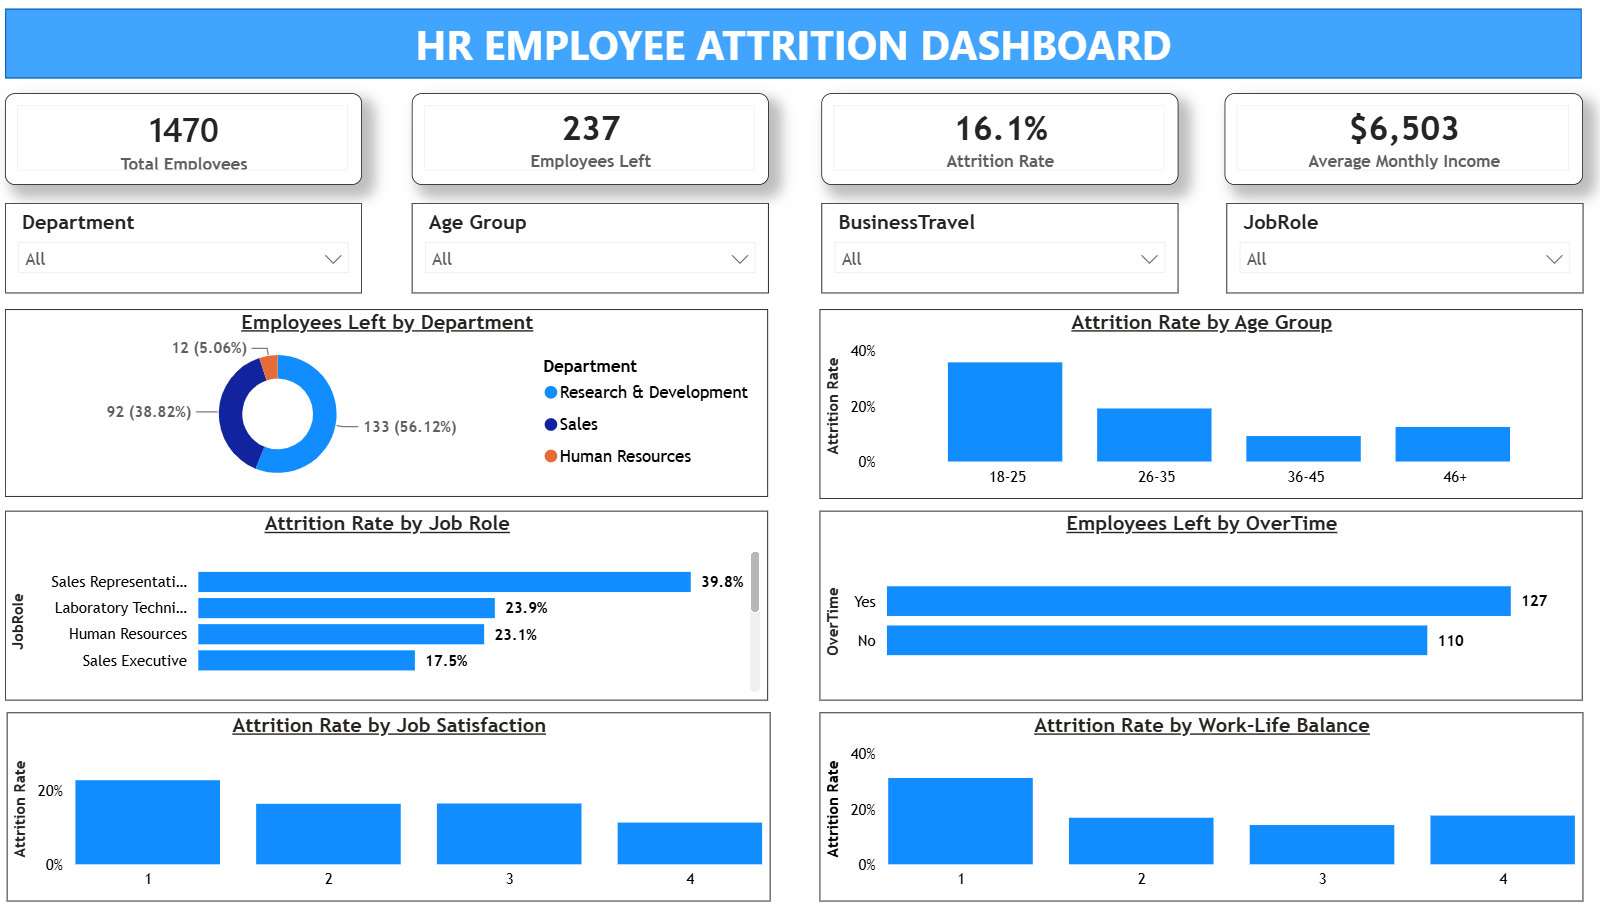

The dashboard page shown, as its layout file describes it:
{"tool":"powerbi","page":{"name":"HR Employee Attrition Overview","canvas":[1280,720],"ordinal":0},"visuals":[{"type":"cardVisual","fields":{"Data":["Measure Table.Total Employees"]},"box":[14.6,77.4,283.1,73],"z":0},{"type":"shape","box":[14.6,10.2,1250.8,55.5],"z":1000},{"type":"cardVisual","fields":{"Data":["Measure Table.Employees Left"]},"box":[337.1,77.4,283.1,73],"z":2000},{"type":"cardVisual","fields":{"Data":["Measure Table.Attrition Rate"]},"box":[661.2,77.4,283.1,73],"z":3000},{"type":"cardVisual","fields":{"Data":["Measure Table.Average Monthly Income"]},"box":[980.8,77.4,284.6,73],"z":4000},{"type":"slicer","fields":{"Values":["HR-Employee-Attrition.Department"]},"box":[14.6,164.9,283.1,71.5],"z":5000},{"type":"slicer","fields":{"Values":["HR-Employee-Attrition.Age Group"]},"box":[337.1,164.9,283.1,71.5],"z":6000},{"type":"slicer","fields":{"Values":["HR-Employee-Attrition.BusinessTravel"]},"box":[661.2,164.9,283.1,71.5],"z":7000},{"type":"slicer","fields":{"Values":["HR-Employee-Attrition.JobRole"]},"box":[982.3,164.9,283.1,71.5],"z":8000},{"type":"donutChart","fields":{"Y":["Measure Table.Employees Left"],"Category":["HR-Employee-Attrition.Department"]},"box":[14.6,248.1,605.7,148.9],"z":9000},{"type":"clusteredColumnChart","fields":{"Category":["HR-Employee-Attrition.Age Group"],"Y":["Measure Table.Attrition Rate"]},"box":[659.7,248.1,605.7,150.3],"z":10000},{"type":"clusteredBarChart","title":"Attrition Rate by Job Role","fields":{"Category":["HR-Employee-Attrition.JobRole"],"Y":["Measure Table.Attrition Rate"]},"box":[14.6,408.7,605.7,150.3],"z":11000},{"type":"barChart","fields":{"Category":["HR-Employee-Attrition.OverTime"],"Y":["Measure Table.Employees Left"]},"box":[659.7,408.7,605.7,150.3],"z":12000},{"type":"clusteredColumnChart","title":"Attrition Rate by Job Satisfaction","fields":{"Category":["HR-Employee-Attrition.JobSatisfaction"],"Y":["Measure Table.Attrition Rate"]},"box":[15,569,606,150],"z":13000},{"type":"clusteredColumnChart","title":"Attrition Rate by Work-Life Balance","fields":{"Category":["HR-Employee-Attrition.WorkLifeBalance"],"Y":["Measure Table.Attrition Rate"]},"box":[660,569,606,150],"z":14000}]}

Visuals, with their boxes in screenshot pixels (x1, y1, x2, y2), scaled from the page's 1280x720 canvas onto the 1600x904 screenshot:
cardVisual - Measure Table.Total Employees: l=18, t=97, r=372, b=189
shape: l=18, t=13, r=1582, b=82
cardVisual - Measure Table.Employees Left: l=421, t=97, r=775, b=189
cardVisual - Measure Table.Attrition Rate: l=826, t=97, r=1180, b=189
cardVisual - Measure Table.Average Monthly Income: l=1226, t=97, r=1582, b=189
slicer - HR-Employee-Attrition.Department: l=18, t=207, r=372, b=297
slicer - HR-Employee-Attrition.Age Group: l=421, t=207, r=775, b=297
slicer - HR-Employee-Attrition.BusinessTravel: l=826, t=207, r=1180, b=297
slicer - HR-Employee-Attrition.JobRole: l=1228, t=207, r=1582, b=297
donutChart - Measure Table.Employees Left x HR-Employee-Attrition.Department: l=18, t=312, r=775, b=498
clusteredColumnChart - HR-Employee-Attrition.Age Group x Measure Table.Attrition Rate: l=825, t=312, r=1582, b=500
"Attrition Rate by Job Role" clusteredBarChart: l=18, t=513, r=775, b=702
barChart - HR-Employee-Attrition.OverTime x Measure Table.Employees Left: l=825, t=513, r=1582, b=702
"Attrition Rate by Job Satisfaction" clusteredColumnChart: l=19, t=714, r=776, b=903
"Attrition Rate by Work-Life Balance" clusteredColumnChart: l=825, t=714, r=1582, b=903
